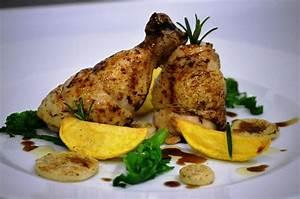hen: (36, 11, 188, 132)
